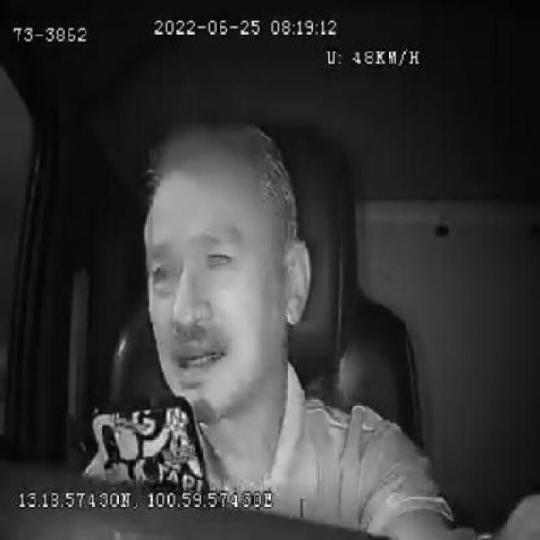phone: (89, 392, 212, 488)
